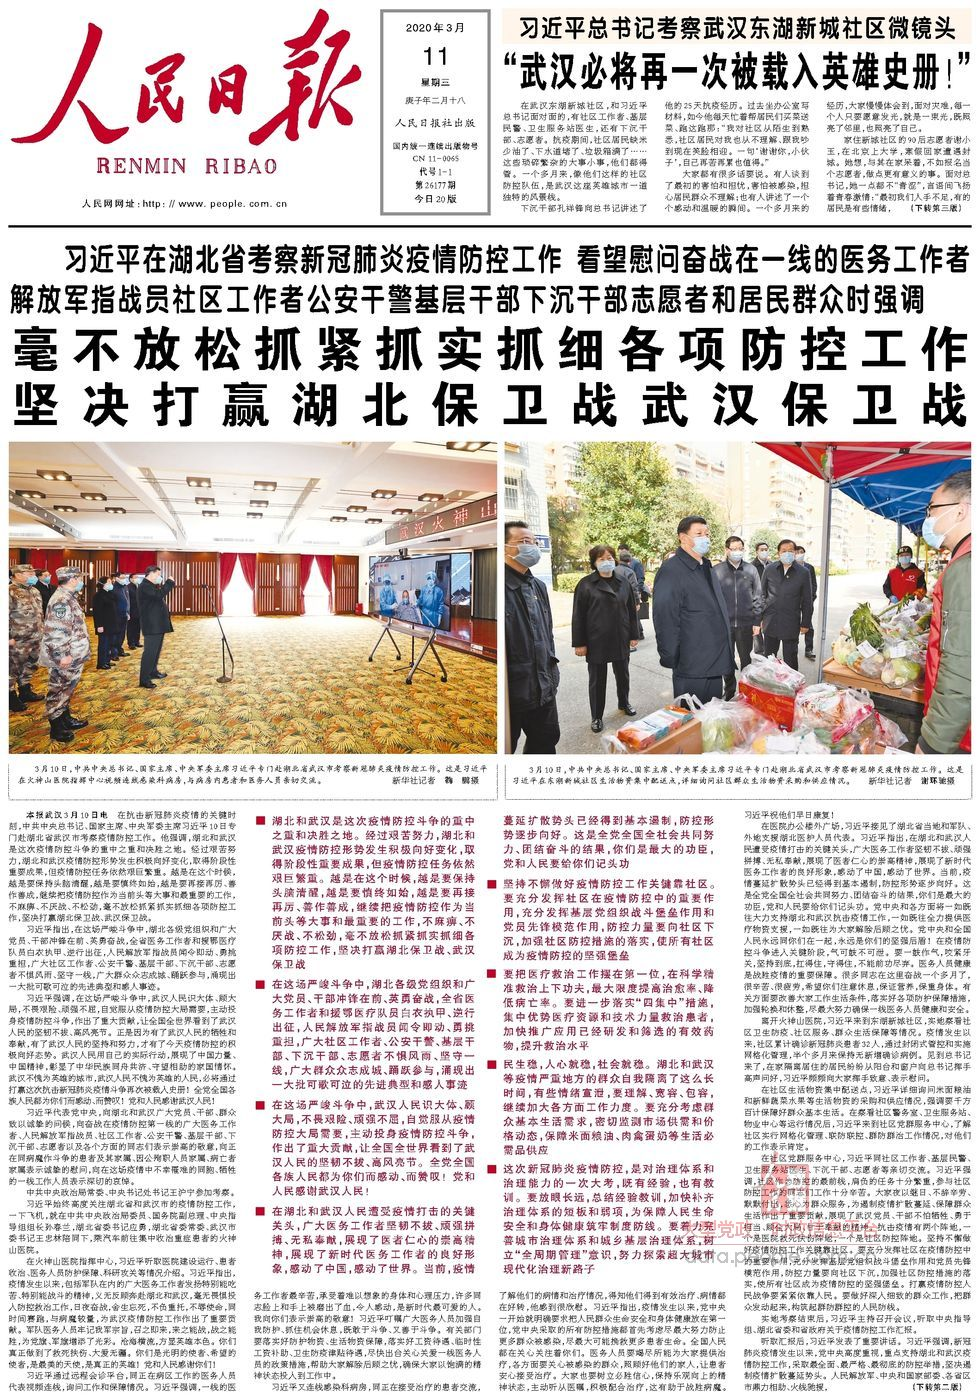pic: (5, 437, 502, 759), (502, 437, 978, 760)
